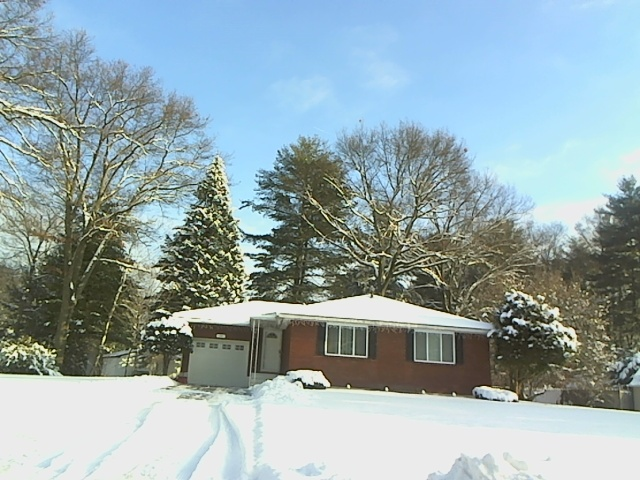Unploughed: (156, 374, 248, 469)
